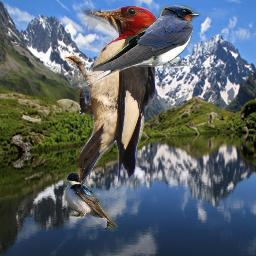Swallow: (77, 5, 201, 91), (64, 172, 118, 233)
Woodpecker: (64, 5, 160, 188)
